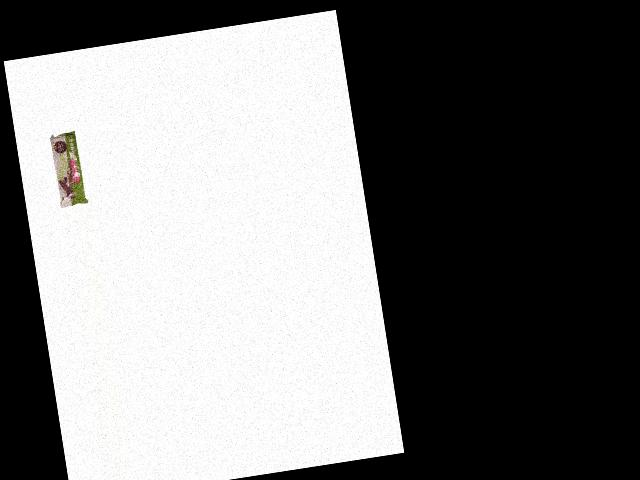chocolate: (46, 128, 87, 208)
